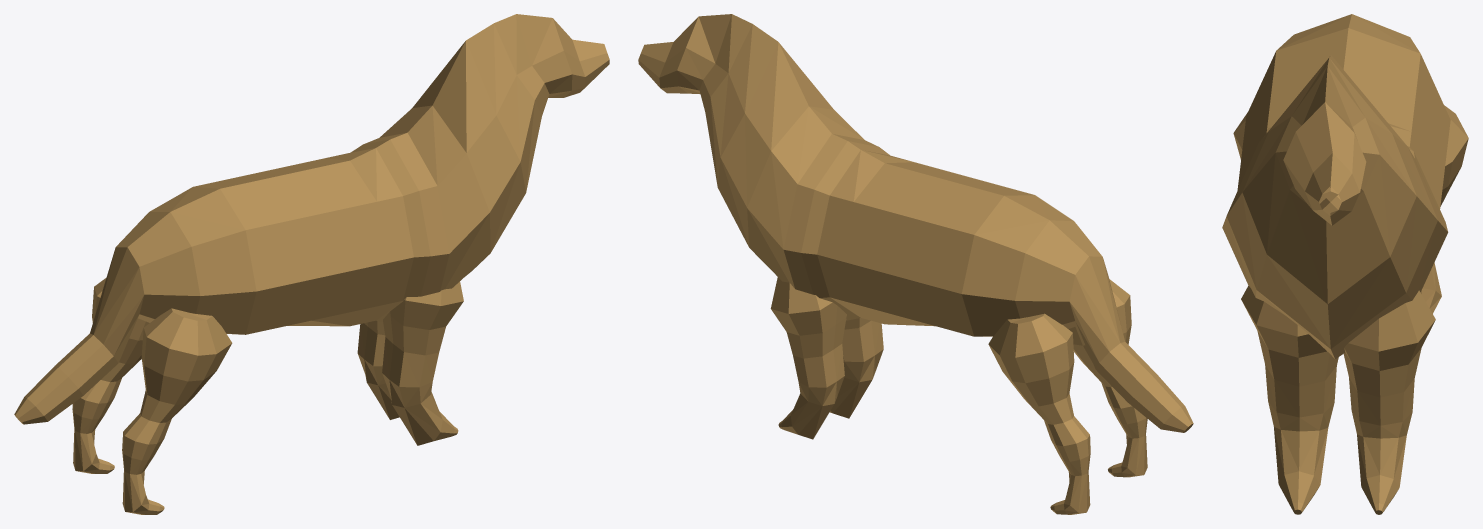
File: husky.dae
3 renders of one model, left to right at view 1: azimuth 30°, elevation 25°; view 2: azimuth 150°, elevation 25°; view 3: azimuth 270°, elevation 25°, orthographic. The views are drawn at different scales.
Visible parts, largest first — view 1: body, leg_back_001, Cylinder_001, leg_back_000, Cylinder_000; view 2: body, leg_back_000, Cylinder_000, leg_back_001, Cylinder_001; view 3: body, Cylinder_000, Cylinder_001, leg_back_000.
Boxes of the visible parts, x1,y1,x2,y2 form: body: [14, 14, 609, 424]; leg_back_001: [122, 308, 232, 514]; Cylinder_001: [382, 281, 463, 445]; leg_back_000: [72, 278, 149, 473]; Cylinder_000: [357, 320, 399, 419]; body: [638, 14, 1193, 432]; leg_back_000: [988, 313, 1090, 514]; Cylinder_000: [770, 277, 846, 439]; leg_back_001: [1068, 279, 1147, 477]; Cylinder_001: [830, 318, 883, 418]; body: [1222, 14, 1450, 359]; Cylinder_000: [1343, 290, 1435, 514]; Cylinder_001: [1241, 285, 1338, 514]; leg_back_000: [1420, 105, 1468, 313].
Bounding box in the file's own units: 11.24 × 3.31 × 7.37.
